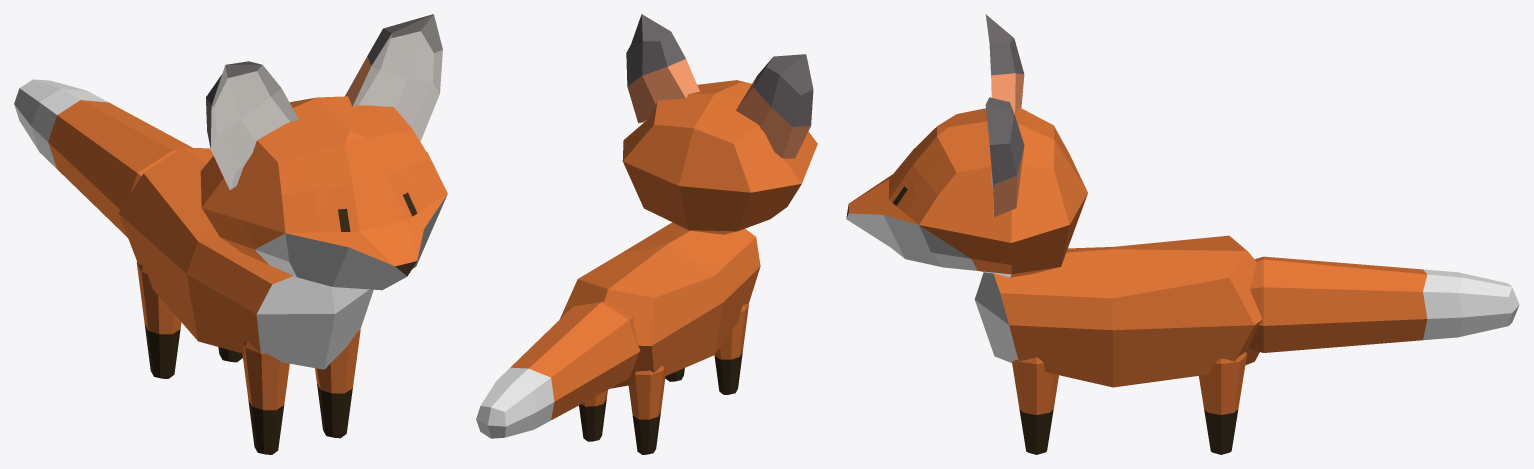
The model's file is Fox.fbx.
3 renders of one model, left to right at view 1: azimuth 30°, elevation 25°; view 2: azimuth 150°, elevation 25°; view 3: azimuth 270°, elevation 25°, orthographic. The views are drawn at different scales.
Visible parts, largest first — view 1: Cube, Cube.002, Cube.001, Cube.005, Cube.003, Cube.004; view 2: Cube, Cube.002, Cube.005, Cube.001, Cube.004, Cube.003; view 3: Cube.002, Cube, Cube.005, Cube.001, Cube.004, Cube.003.
Boxes of the visible parts, left/top/right/bottom form: Cube: left=200, top=96, right=447, bottom=290; Cube.002: left=118, top=147, right=373, bottom=369; Cube.001: left=206, top=14, right=442, bottom=189; Cube.005: left=14, top=79, right=192, bottom=237; Cube.003: left=242, top=329, right=360, bottom=454; Cube.004: left=136, top=262, right=242, bottom=378; Cube: left=622, top=80, right=817, bottom=234; Cube.002: left=559, top=222, right=760, bottom=388; Cube.005: left=476, top=302, right=640, bottom=438; Cube.001: left=626, top=14, right=813, bottom=158; Cube.004: left=579, top=366, right=665, bottom=454; Cube.003: left=665, top=303, right=748, bottom=394; Cube.002: left=974, top=235, right=1262, bottom=387; Cube: left=846, top=108, right=1087, bottom=277; Cube.005: left=1248, top=256, right=1519, bottom=352; Cube.001: left=985, top=14, right=1024, bottom=217; Cube.004: left=1199, top=352, right=1246, bottom=454; Cube.003: left=1012, top=357, right=1058, bottom=454.
Size of the model in its own units: 164 by 290 by 465.
